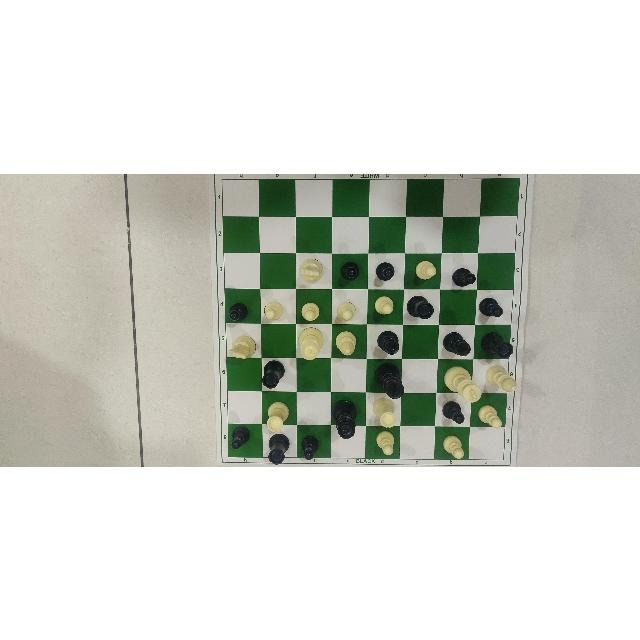black-bishop: (443, 330, 472, 358), (377, 328, 401, 356)
black-king: (376, 360, 404, 399)
black-pawn: (442, 398, 466, 425), (227, 425, 251, 451), (480, 295, 504, 318), (452, 267, 480, 286), (227, 299, 249, 323), (340, 259, 360, 283), (302, 433, 319, 461), (376, 261, 395, 281)
black-queen: (332, 396, 358, 442)
black-rook: (481, 330, 515, 359), (406, 293, 437, 320), (260, 356, 283, 389), (266, 432, 290, 463)
white-bishop: (488, 364, 519, 394), (334, 328, 358, 356)
white-king: (445, 365, 485, 403)
white-knight: (224, 330, 255, 359), (300, 256, 324, 286)
white-pawn: (478, 403, 504, 430), (441, 433, 466, 461), (375, 429, 399, 457), (261, 298, 283, 321), (412, 260, 440, 278), (374, 293, 396, 315), (301, 298, 320, 322), (339, 300, 357, 320)
white-queen: (298, 327, 323, 362)
white-rook: (265, 400, 291, 432), (372, 396, 398, 427)
